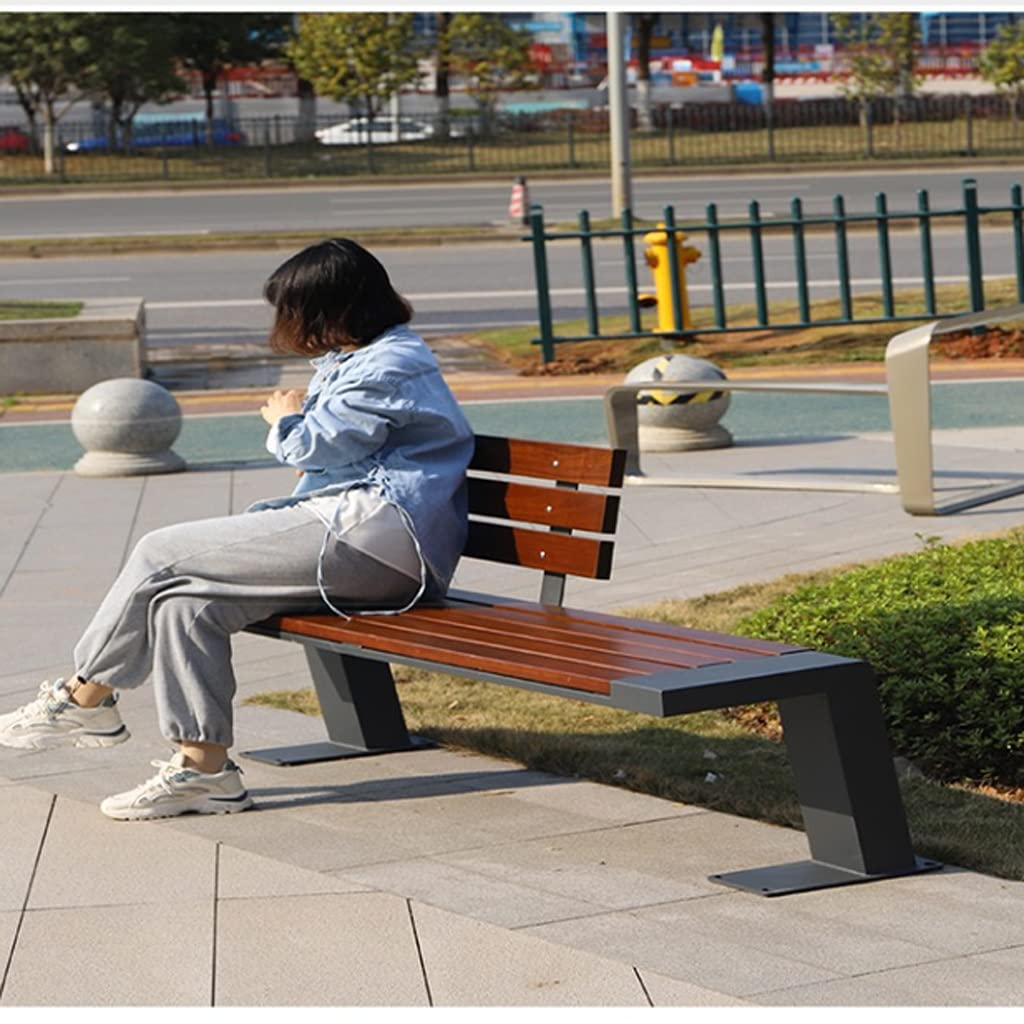Chair: (449, 419, 945, 912)
